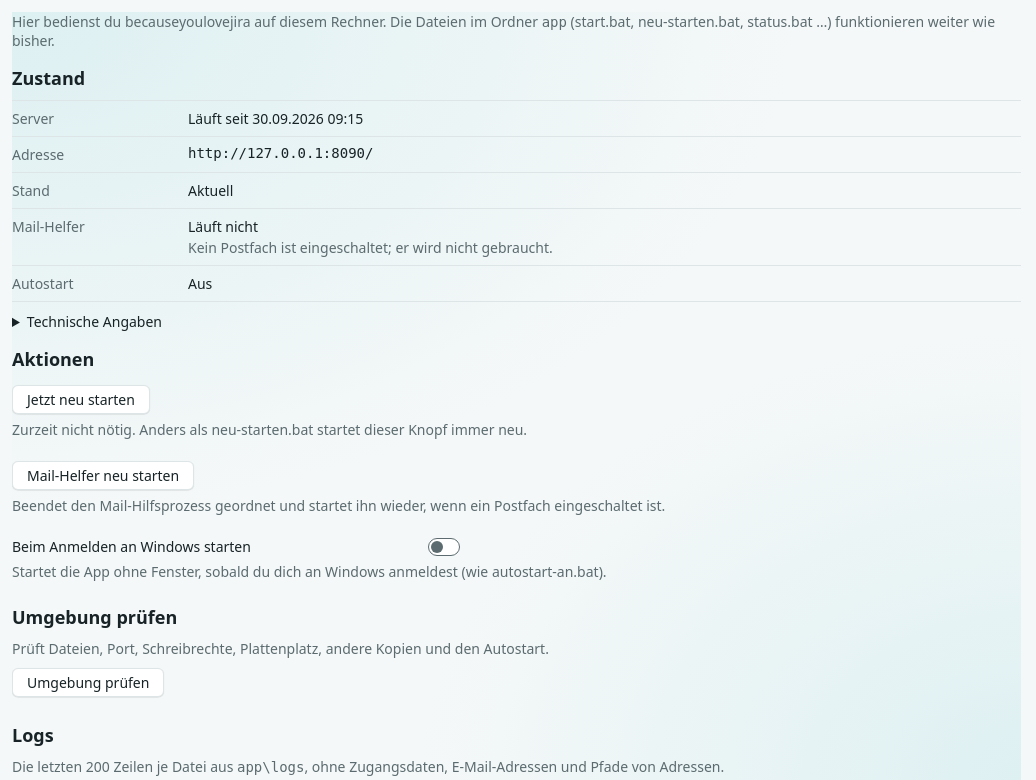
page System › lists the checks of "Umgebung prüfen" with their level, red only for errors
Click the button "Umgebung prüfen" at (88, 682), box top-left (12, 668), bottom-right (164, 697)
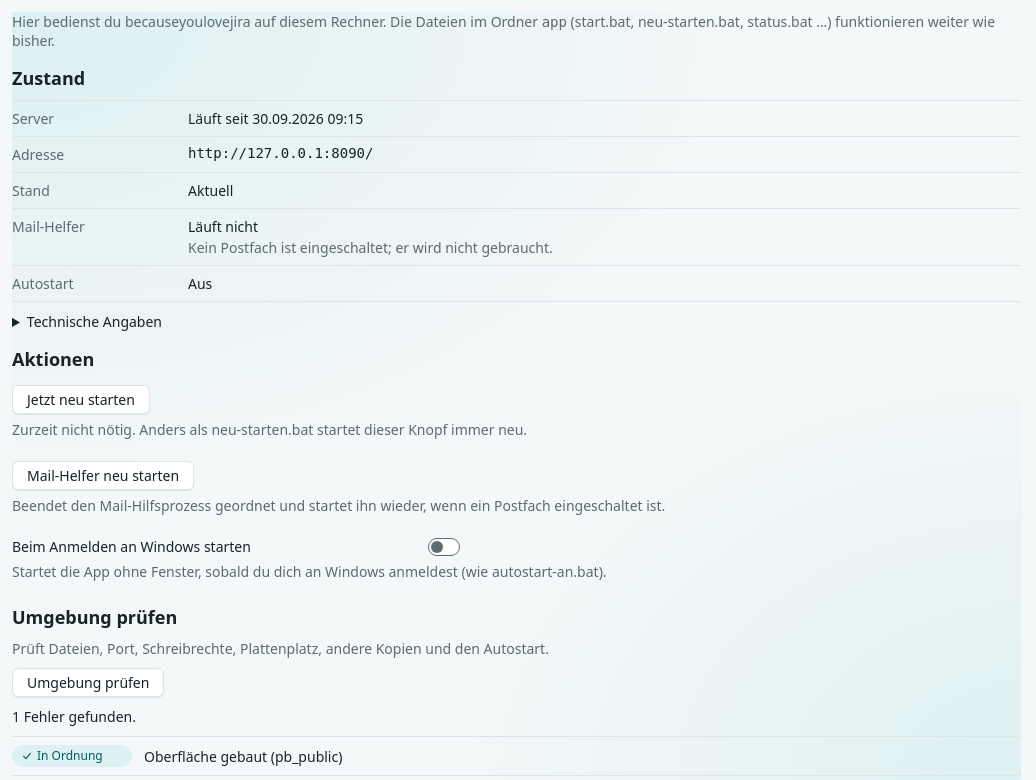
Result: the number of list items is 3
Result: the text "In Ordnung" is shown at top-left (37, 746), bottom-right (103, 766)
Result: the text "Oberfläche gebaut (pb_public)" is shown at top-left (144, 747), bottom-right (342, 766)
